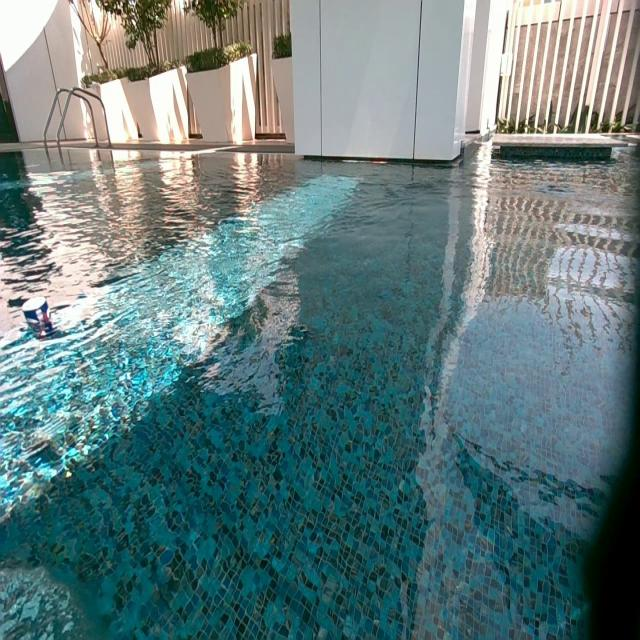Cans: (22, 295, 51, 330)
